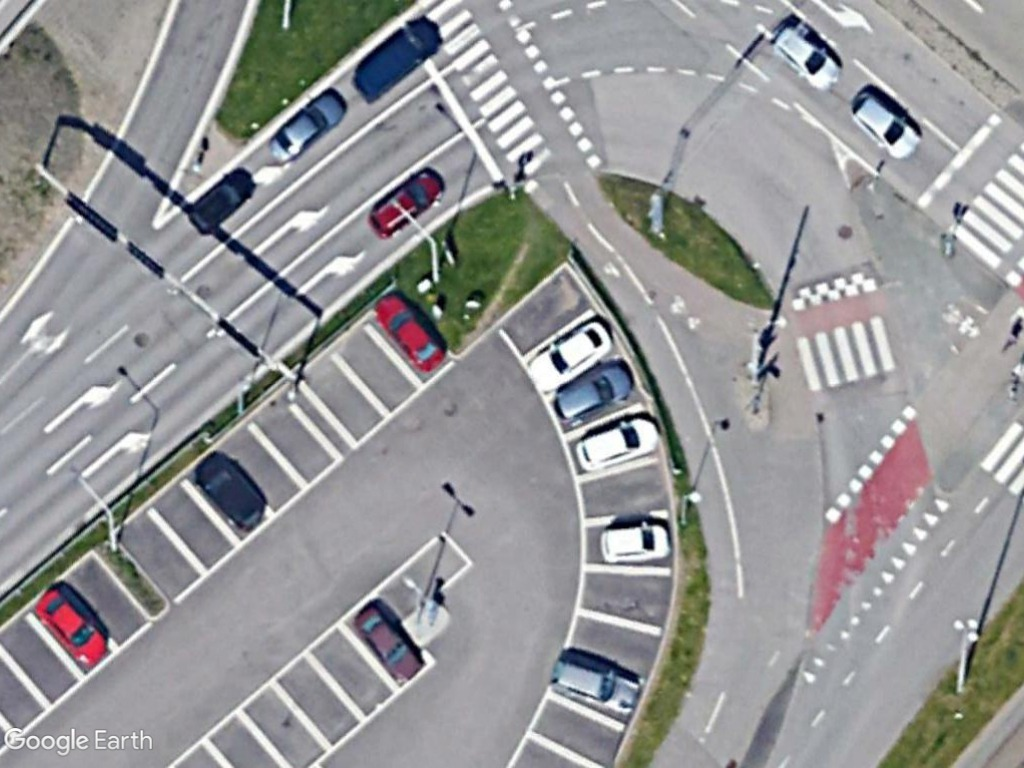car: (349, 18, 444, 104), (524, 315, 619, 398), (364, 160, 454, 240), (370, 289, 450, 378), (34, 584, 116, 669), (569, 411, 668, 481), (265, 87, 348, 166), (354, 598, 428, 686), (550, 653, 646, 720), (550, 359, 639, 429), (193, 455, 272, 533), (765, 17, 844, 94), (846, 87, 925, 159), (595, 517, 674, 571)
